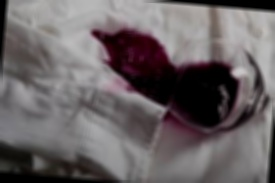wine: (95, 36, 222, 114), (90, 23, 170, 81)
